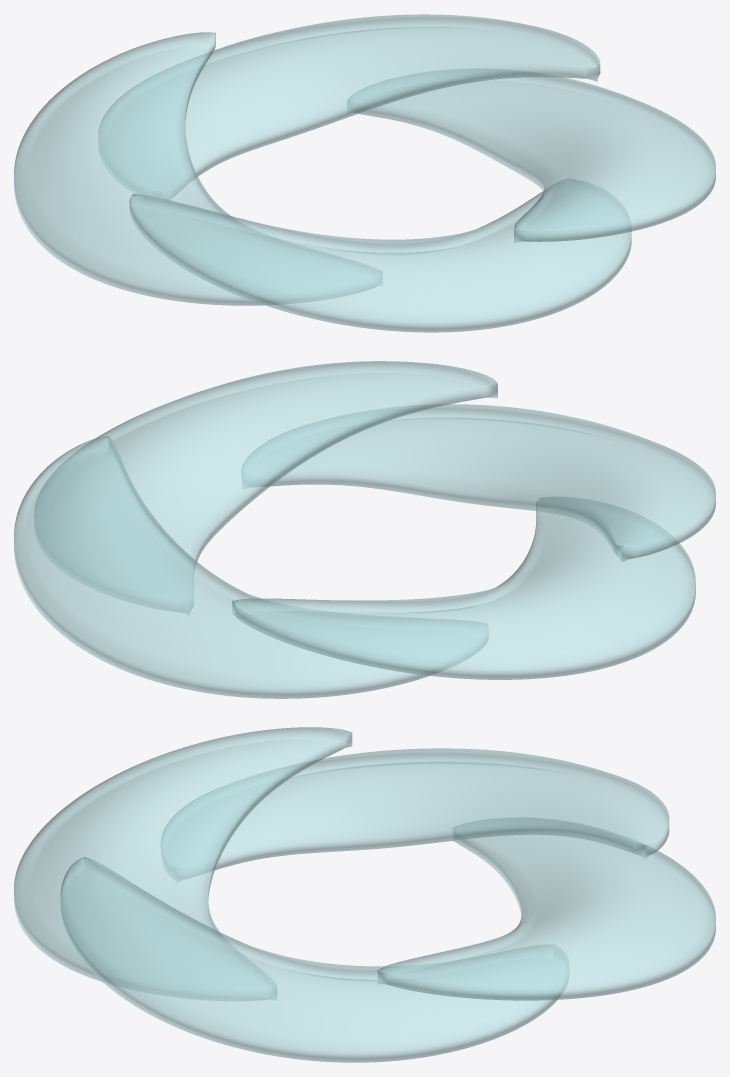
File: seyveo-real-ribbons-uv.glb
The picture shows the model from 3 angles, top to bottom: view 1: azimuth 30°, elevation 25°; view 2: azimuth 150°, elevation 25°; view 3: azimuth 270°, elevation 25°; orthographic projection. The views are drawn at different scales.
Parts seen in each view (by area): view 1: SAYVI ribbon 2, SAYVI ribbon 3, SAYVI ribbon 1, SAYVI ribbon 4; view 2: SAYVI ribbon 1, SAYVI ribbon 4, SAYVI ribbon 2, SAYVI ribbon 3; view 3: SAYVI ribbon 4, SAYVI ribbon 3, SAYVI ribbon 2, SAYVI ribbon 1.
Part boxes in pixels (box(x1,y1,x2,y2)): SAYVI ribbon 2: box(14, 32, 382, 305); SAYVI ribbon 3: box(129, 179, 631, 332); SAYVI ribbon 1: box(99, 14, 600, 199); SAYVI ribbon 4: box(347, 69, 715, 243); SAYVI ribbon 1: box(14, 436, 487, 698); SAYVI ribbon 4: box(34, 361, 497, 615); SAYVI ribbon 2: box(232, 497, 695, 679); SAYVI ribbon 3: box(242, 404, 715, 562); SAYVI ribbon 4: box(60, 857, 568, 1062); SAYVI ribbon 3: box(14, 727, 352, 1000); SAYVI ribbon 2: box(161, 748, 669, 882); SAYVI ribbon 1: box(377, 818, 715, 1000).
Size of the model in its own units: 1.93 by 0.2253 by 1.93.
